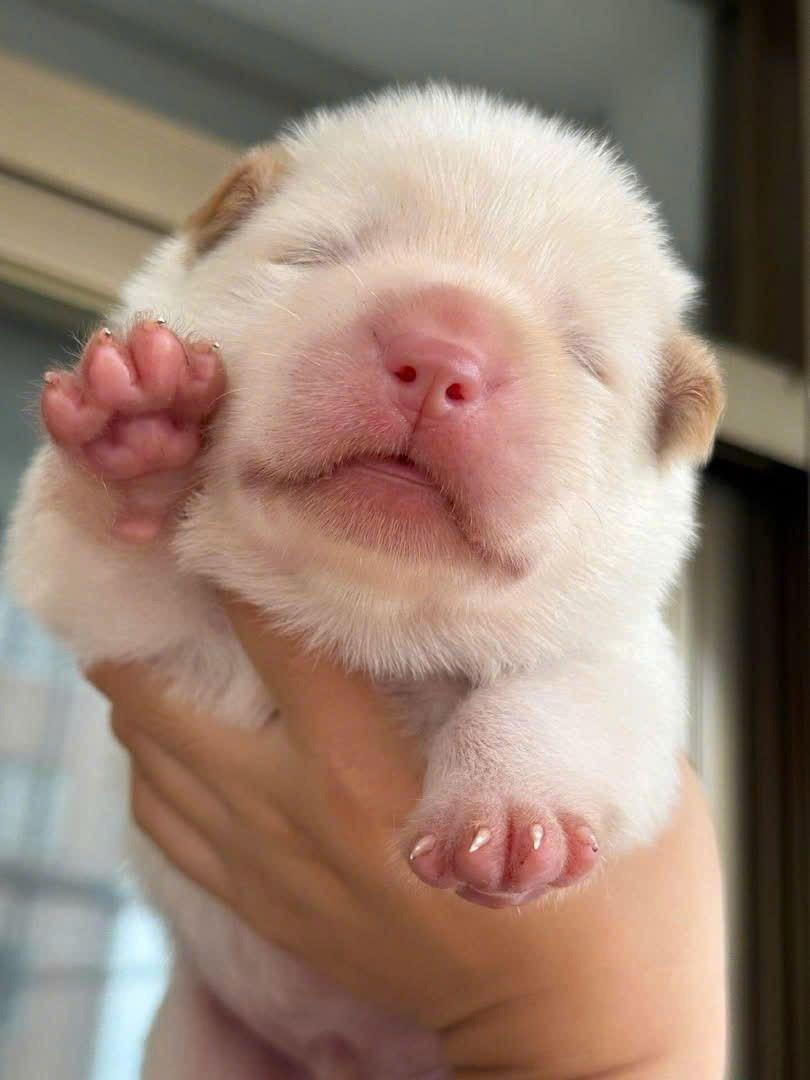puppy-dog: (6, 81, 730, 1080)
